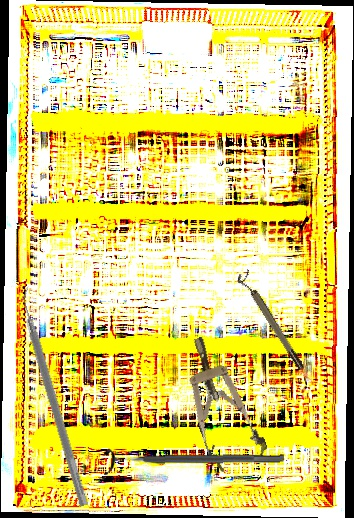Fixation Ring: (234, 269, 307, 374), (103, 444, 285, 476)
Spatula Surgical: (13, 285, 99, 507)
Speculum: (171, 328, 271, 476)
